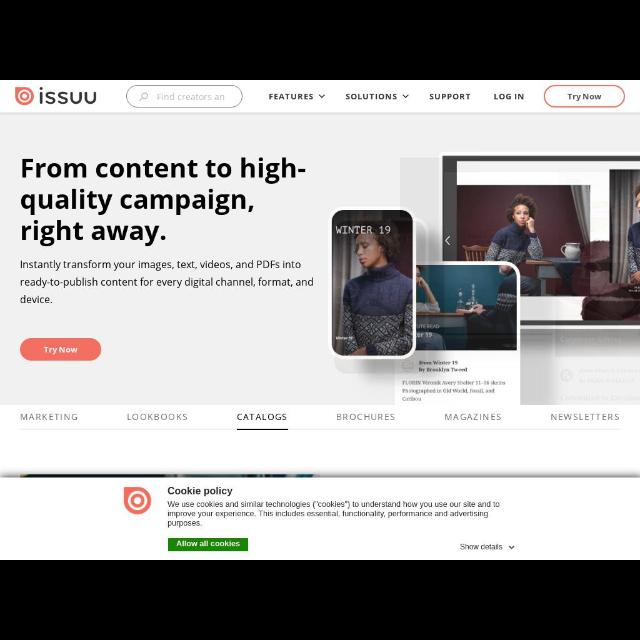icon: (140, 92, 148, 101), (402, 94, 410, 98), (509, 546, 515, 550), (319, 94, 325, 98)
image: (1, 111, 640, 406), (15, 87, 97, 105), (124, 487, 152, 515)
input: (126, 84, 244, 108)
multitab: (1, 407, 640, 429)
spinner: (344, 93, 410, 101), (269, 93, 327, 101)
text: (21, 158, 305, 246), (168, 487, 500, 527), (18, 260, 314, 304), (552, 412, 620, 422), (158, 93, 226, 101), (127, 413, 187, 422), (443, 413, 501, 422), (236, 412, 288, 422), (338, 414, 396, 422), (345, 92, 397, 100), (20, 414, 78, 421), (176, 541, 240, 547), (460, 542, 502, 550), (44, 346, 78, 354), (567, 94, 601, 102), (269, 94, 313, 100), (430, 94, 470, 100), (494, 92, 524, 100)
textbutton: (544, 84, 626, 108), (20, 339, 101, 361), (169, 538, 249, 550)
toolbar: (1, 80, 640, 112)
